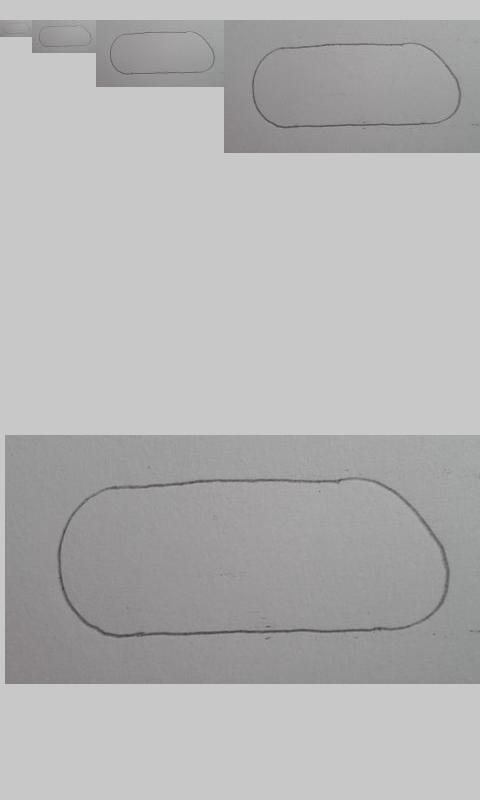chip: (58, 477, 451, 639), (250, 42, 462, 129), (109, 31, 215, 76), (38, 24, 93, 48), (2, 22, 31, 35)
